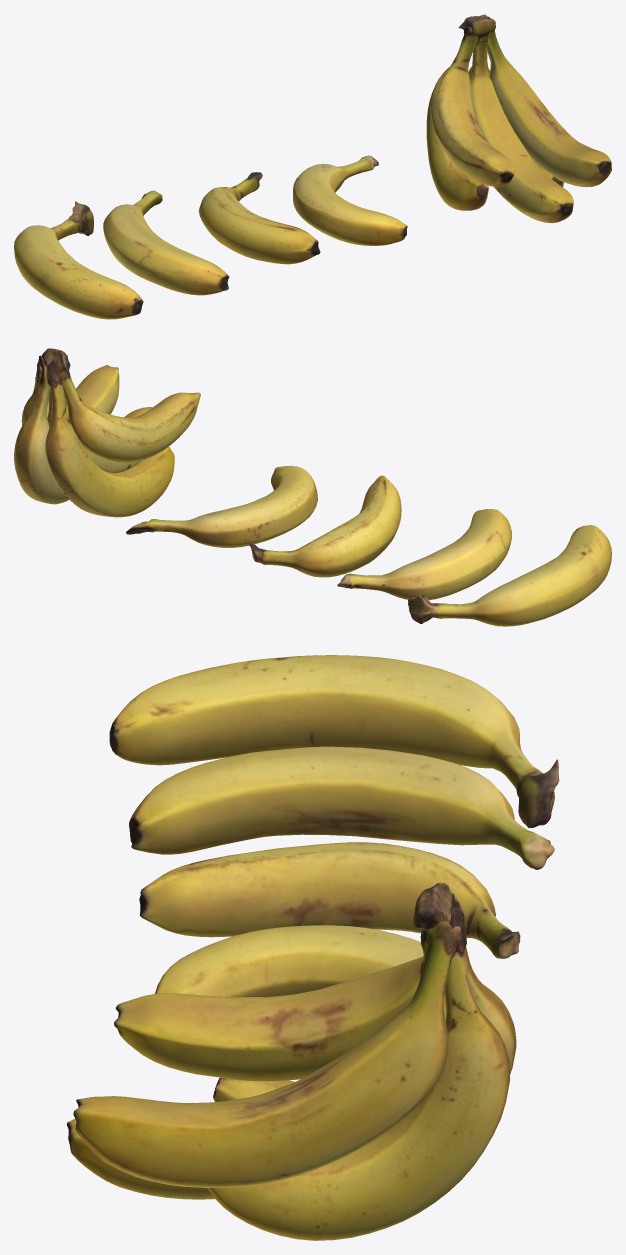
The model's file is bananas.glb.
The picture shows the model from 3 angles, top to bottom: view 1: azimuth 30°, elevation 25°; view 2: azimuth 150°, elevation 25°; view 3: azimuth 270°, elevation 25°; orthographic projection. The views are drawn at different scales.
Parts seen in each view (by area): view 1: bananas_bunch, bananas_d, bananas_c, bananas_a, bananas_b; view 2: bananas_bunch, bananas_d, bananas_c, bananas_a, bananas_b; view 3: bananas_bunch, bananas_d, bananas_c, bananas_b, bananas_a.
Part boxes in pixels (x1,y1,x2,y2): bananas_bunch: [426, 14, 611, 223]; bananas_d: [14, 201, 143, 319]; bananas_c: [103, 190, 229, 295]; bananas_a: [293, 155, 407, 245]; bananas_b: [198, 172, 320, 264]; bananas_bunch: [14, 348, 200, 517]; bananas_d: [408, 525, 611, 626]; bananas_c: [337, 509, 511, 600]; bananas_a: [126, 465, 317, 547]; bananas_b: [249, 475, 401, 577]; bananas_bunch: [67, 883, 516, 1240]; bananas_d: [109, 655, 559, 828]; bananas_c: [129, 746, 554, 869]; bananas_b: [139, 842, 520, 958]; bananas_a: [155, 925, 480, 997].
Size of the model in its own units: 0.6 by 0.1788 by 0.2441.
Materials: 1 (1 with a texture image).
